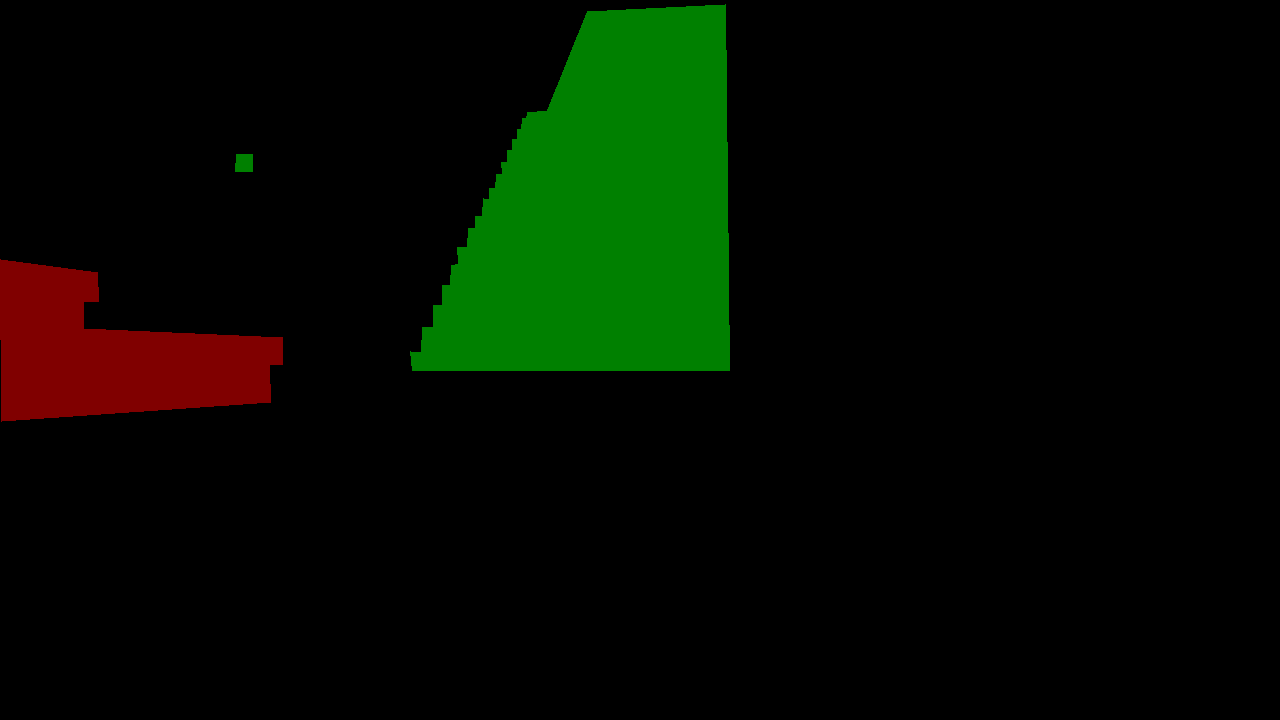sign: (235, 154, 252, 171)
stair: (410, 4, 729, 370), (0, 259, 282, 421)
